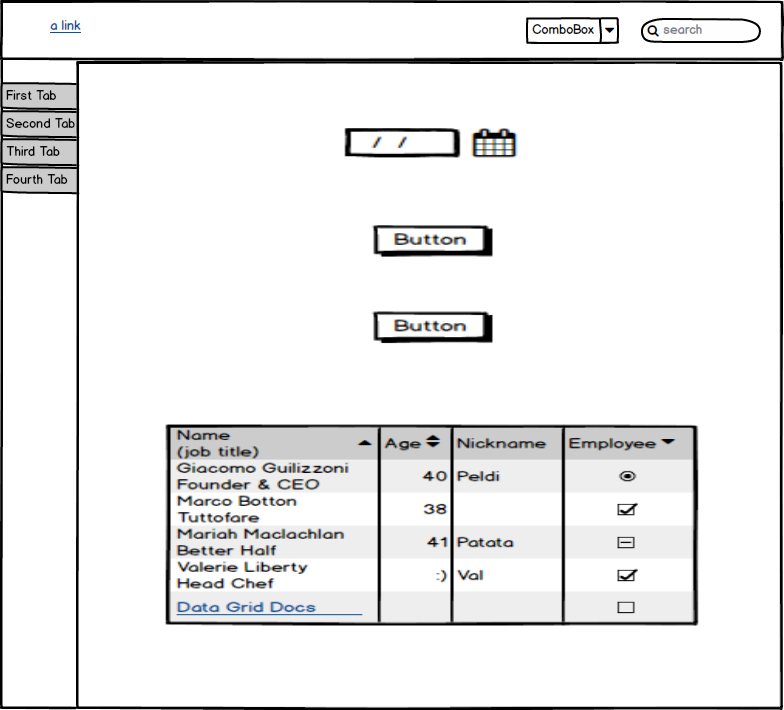button: (369, 301, 501, 354), (367, 221, 498, 262)
date_picker: (333, 123, 520, 166)
navlink: (44, 16, 89, 42)
search: (636, 16, 764, 45)
select_box: (521, 13, 624, 48)
sidebar: (4, 75, 84, 201)
table: (160, 419, 705, 630)
